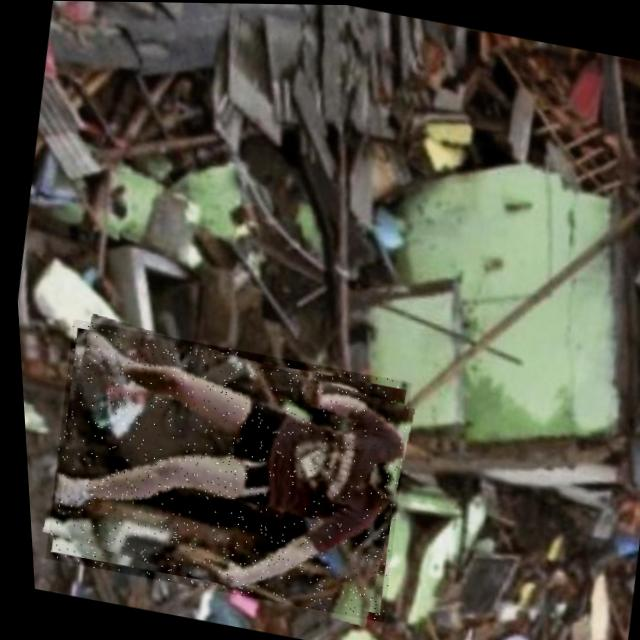Person in Rubble: (26, 318, 417, 622)
